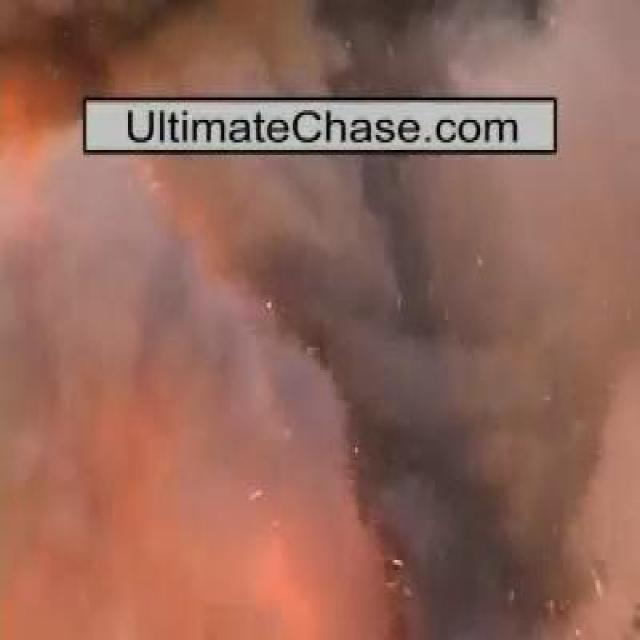Smoke: (36, 160, 551, 602)
